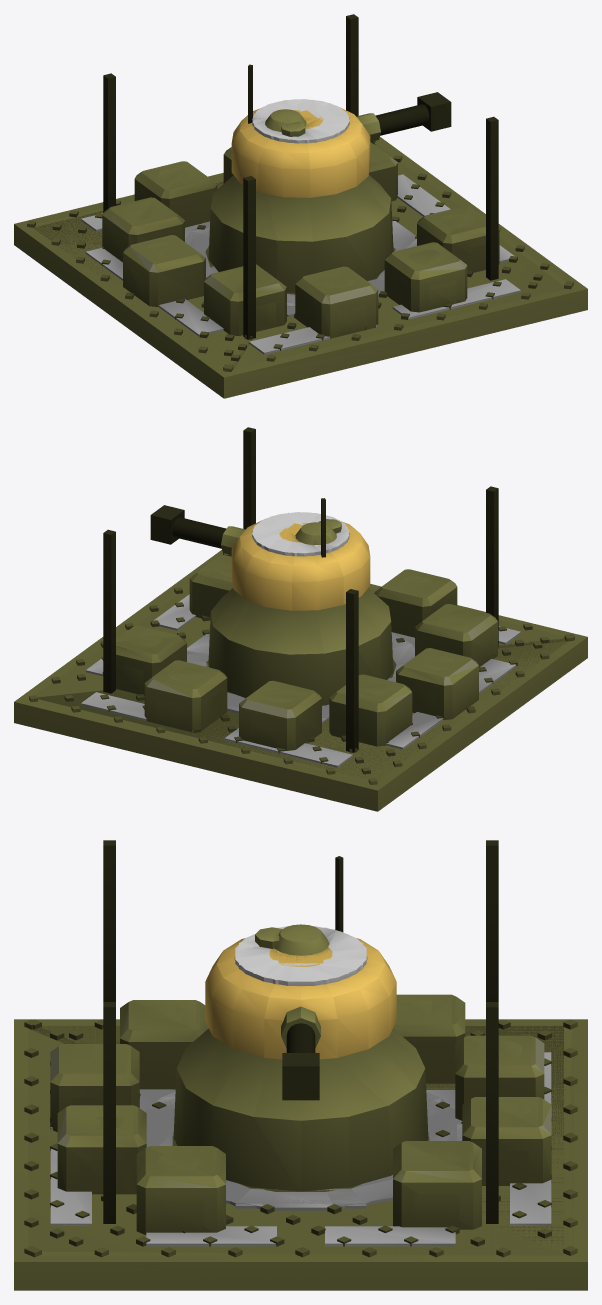
File: meridian_decoy_emplacement.glb
3 views of the same model, one above another, from view 1: azimuth 30°, elevation 25°; view 2: azimuth 150°, elevation 25°; view 3: azimuth 270°, elevation 25° (orthographic). The views are drawn at different scales.
Parts seen in each view (by area): view 1: body (×3), turret (×3), barrel; view 2: body (×3), turret (×3), barrel; view 3: body (×3), turret (×3), barrel.
Boxes of the visible parts, box(x1,y1,x2,y2) form: body (×3): box(14, 14, 587, 398); turret (×3): box(231, 64, 370, 197); barrel: box(356, 92, 451, 141); body (×3): box(14, 427, 587, 811); turret (×3): box(231, 498, 370, 610); barrel: box(150, 505, 245, 554); body (×3): box(14, 840, 587, 1290); turret (×3): box(205, 856, 396, 1059); barrel: box(281, 1006, 320, 1100).
Bounding box in the file's own units: 3.6 × 1.99 × 3.6.
